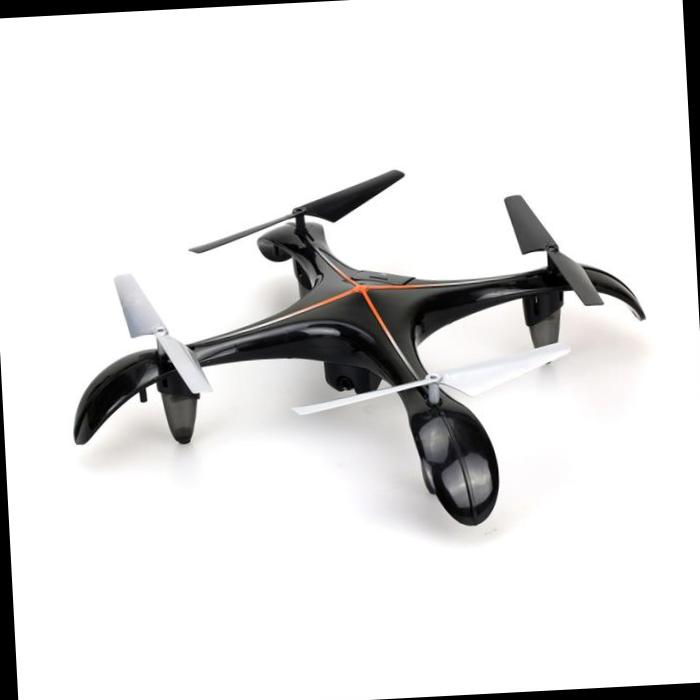drone: (43, 161, 674, 536)
